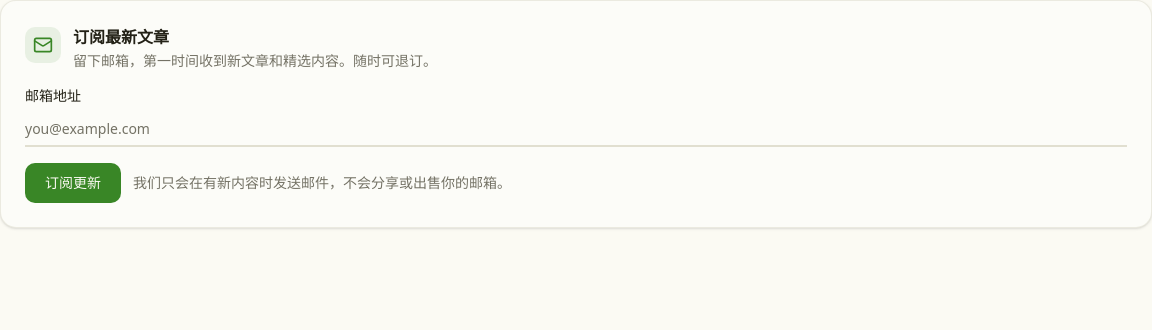
Scenario: SubscribeForm › submits successfully and shows success message
Type "user@example.com" into the field with test id "email-input" at (576, 129), box left=25, top=111, right=1127, bottom=147
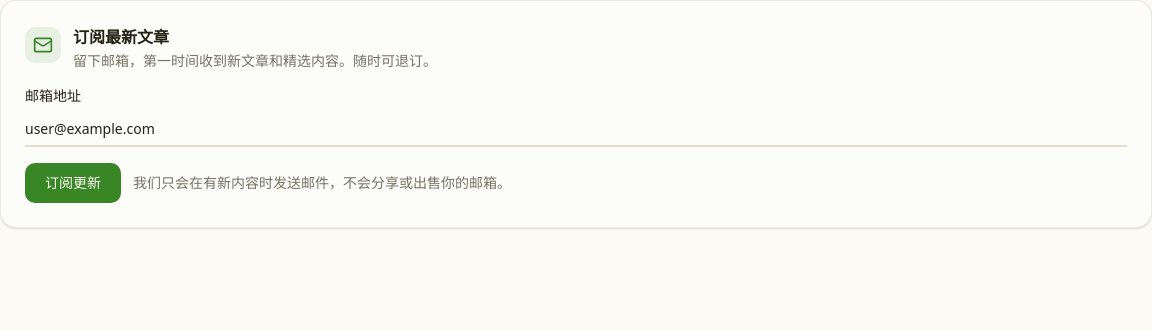
Click the button "订阅更新" at (73, 183), box left=25, top=163, right=121, bottom=203
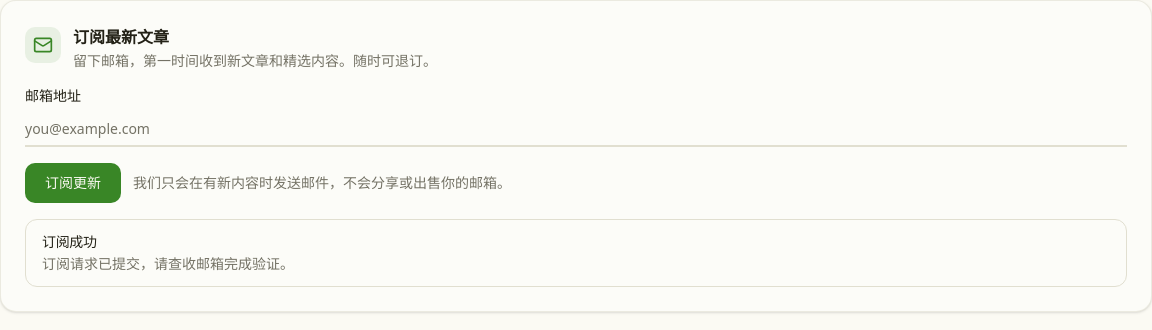
Expected: the message "订阅成功 订阅请求已提交，请查收邮箱完成验证。" is shown, left=25, top=219, right=1127, bottom=287
